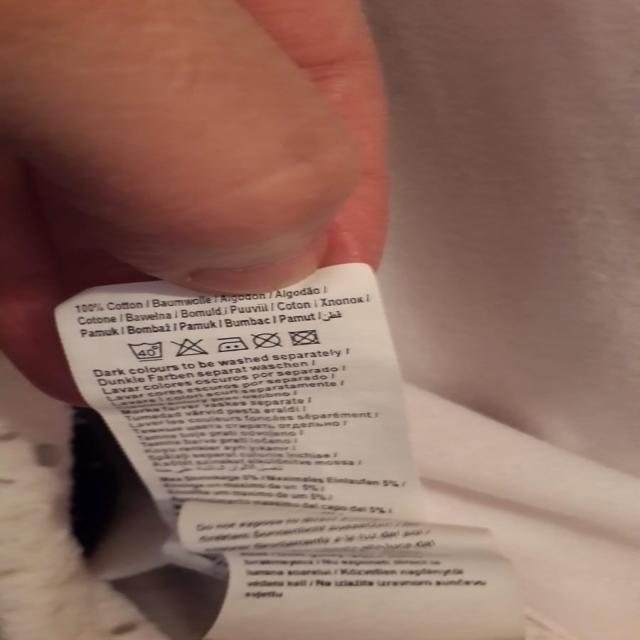40C: (127, 338, 166, 363)
DN_bleach: (176, 335, 210, 358)
DN_dry_clean: (252, 329, 284, 352)
DN_tumble_dry: (288, 326, 324, 348)
iron_medium: (217, 333, 248, 354)
